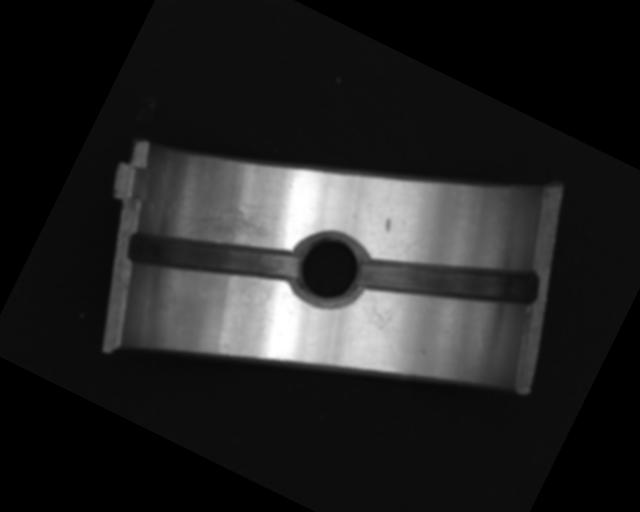bruise: (380, 215, 395, 233)
gap: (355, 203, 543, 356), (121, 189, 301, 329)
hole: (279, 220, 378, 320)
scratch: (176, 184, 284, 269)
